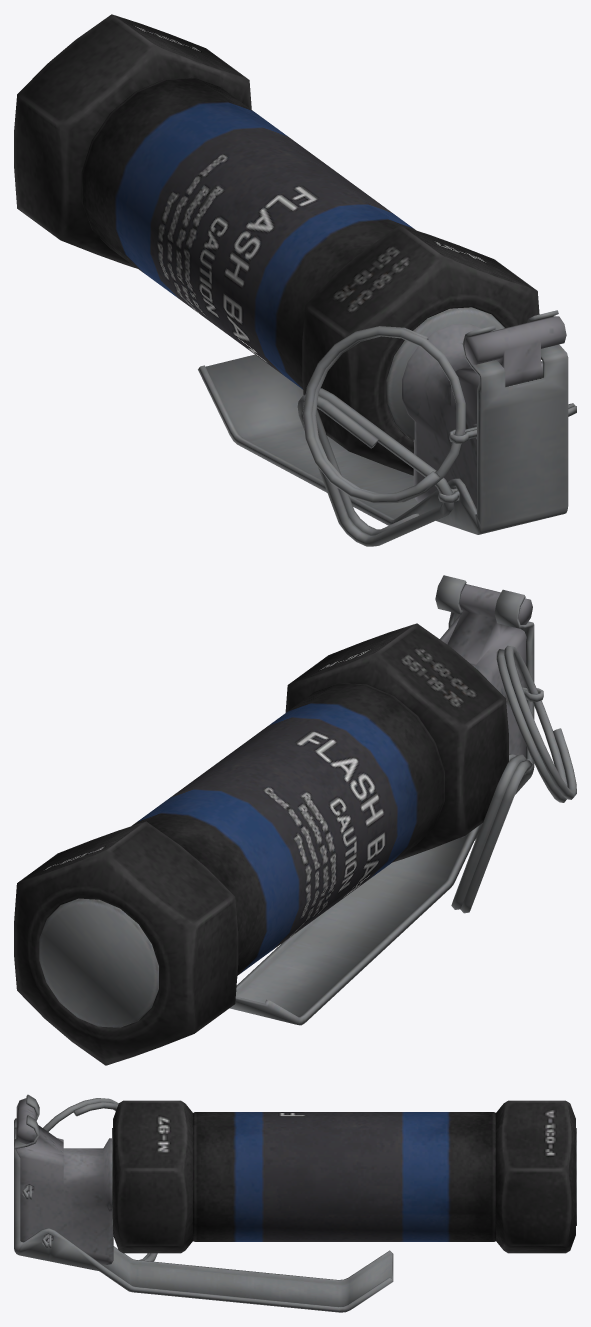
The model's file is Weapon_FlashBang.fbx.
3 views of the same model, one above another, from view 1: azimuth 30°, elevation 25°; view 2: azimuth 150°, elevation 25°; view 3: azimuth 270°, elevation 25° (orthographic). The views are drawn at different scales.
Parts seen in each view (by area): view 1: Flashbang_REF.mo; view 2: Flashbang_REF.mo; view 3: Flashbang_REF.mo.
Part boxes in pixels (<box>): Flashbang_REF.mo: <box>14,14,576,546</box>; Flashbang_REF.mo: <box>14,575,576,1065</box>; Flashbang_REF.mo: <box>14,1094,576,1312</box>.
Bounding box in the file's own units: 6.54 × 7.69 × 19.83.
